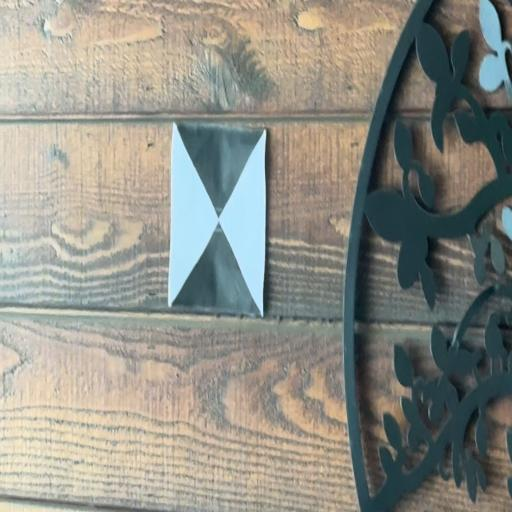target: (166, 123, 267, 317)
